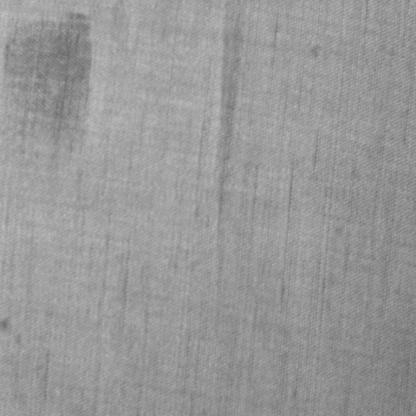oil spot: (0, 6, 95, 166)
